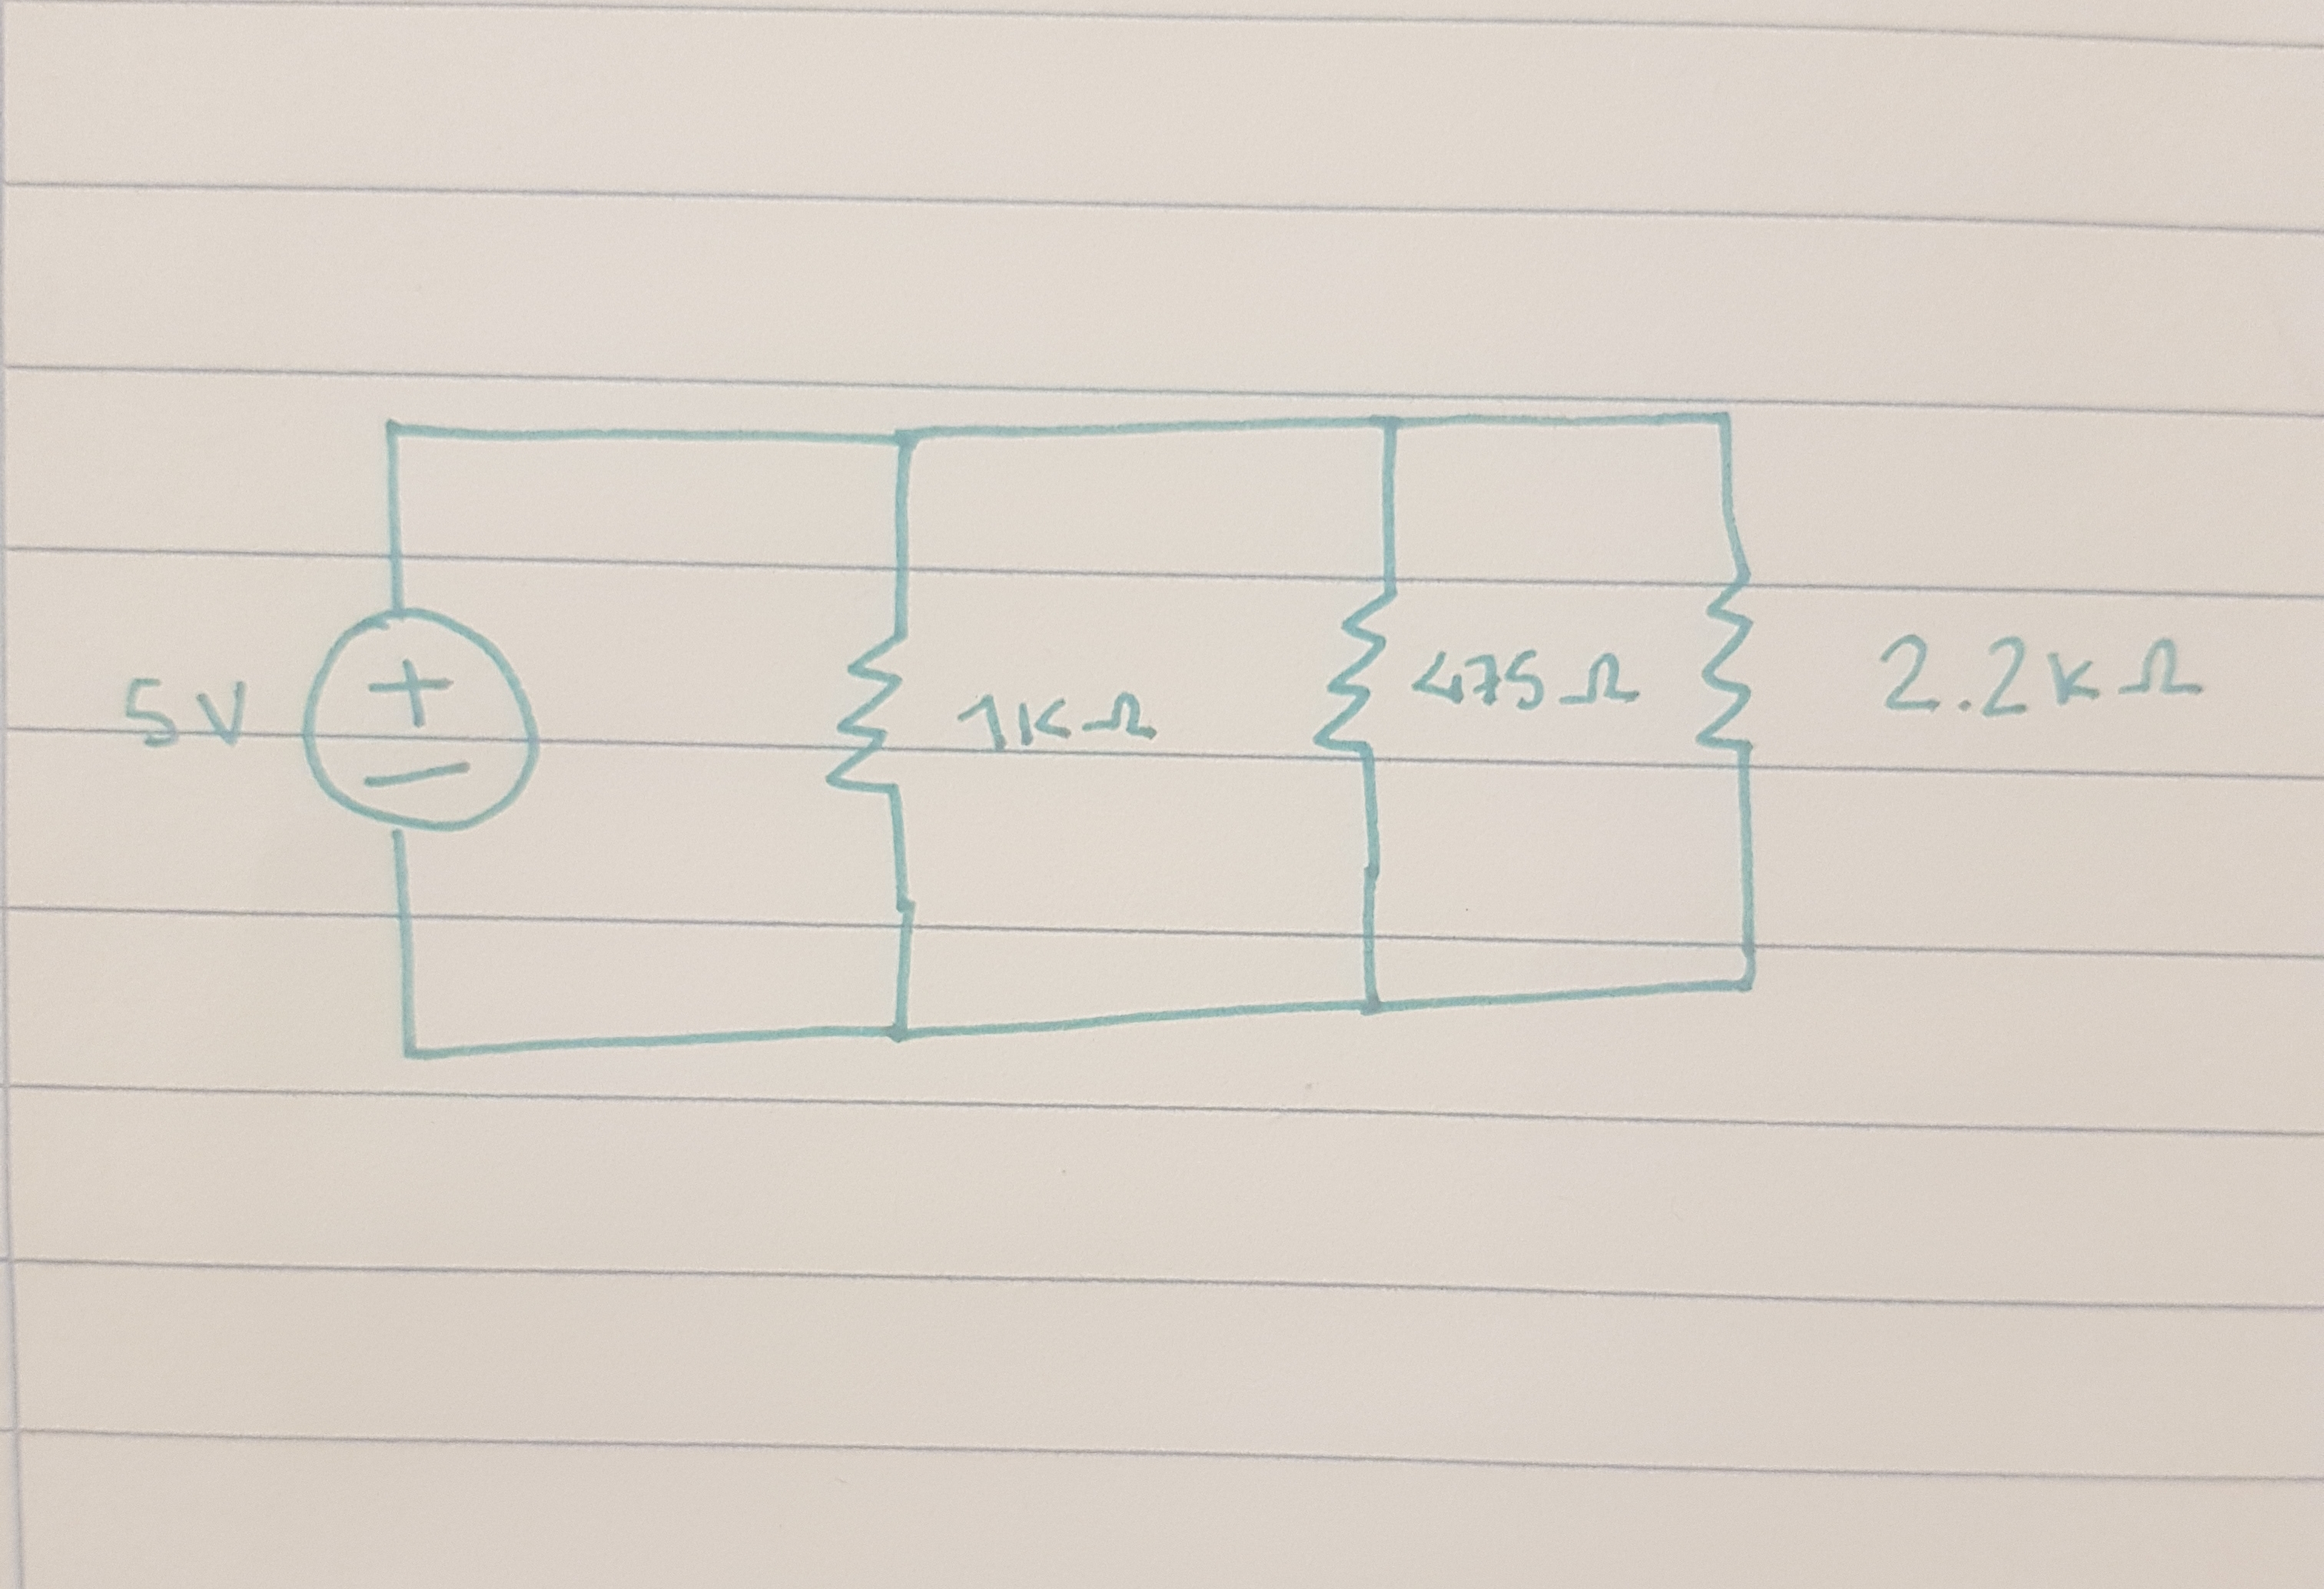junction: (1346, 982, 1402, 1033), (869, 1012, 925, 1061), (1720, 952, 1769, 1006), (390, 1033, 440, 1079), (887, 411, 929, 463), (1699, 394, 1743, 440), (1367, 399, 1411, 443), (376, 403, 415, 448)
resistor: (809, 611, 938, 821), (1302, 563, 1415, 780), (1686, 549, 1777, 784)
text: (1858, 616, 2236, 712), (941, 671, 1180, 773), (1399, 629, 1649, 712), (97, 659, 260, 766)
voltage.dc: (297, 591, 556, 846)
